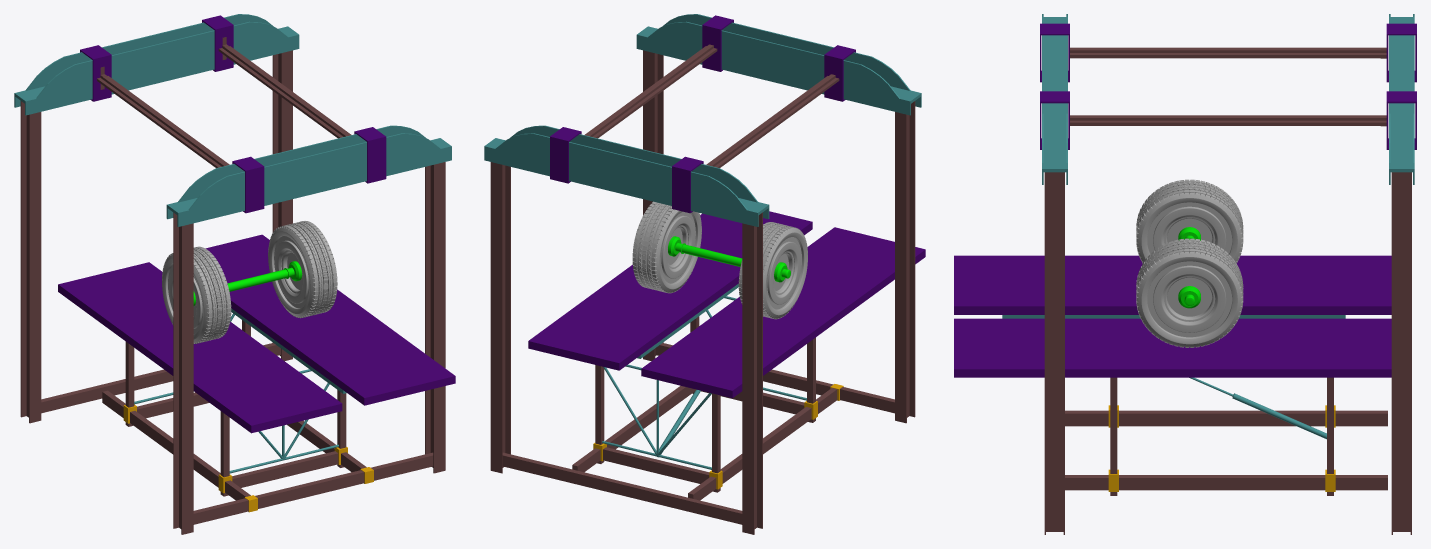
File: BackRoomAss01.fbx
The picture shows the model from 3 angles, left to right: view 1: azimuth 30°, elevation 25°; view 2: azimuth 150°, elevation 25°; view 3: azimuth 270°, elevation 25°; orthographic projection. The views are drawn at different scales.
Visible parts, largest first — view 1: BackRoomAss01; view 2: BackRoomAss01; view 3: BackRoomAss01.
Boxes of the visible parts, x1=… form: BackRoomAss01: x1=14, y1=14, x2=455, y2=534; BackRoomAss01: x1=484, y1=14, x2=925, y2=534; BackRoomAss01: x1=954, y1=14, x2=1416, y2=534.
Size of the model in its own units: 193 by 236 by 248.
